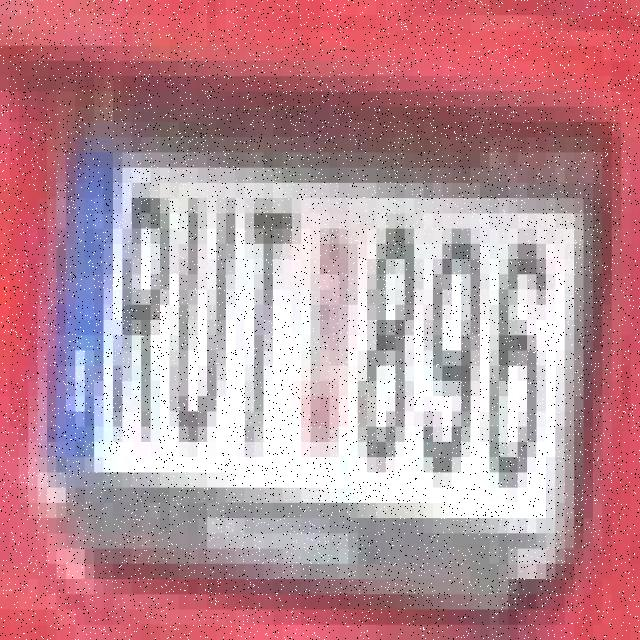licenseplate: (45, 119, 602, 586)
